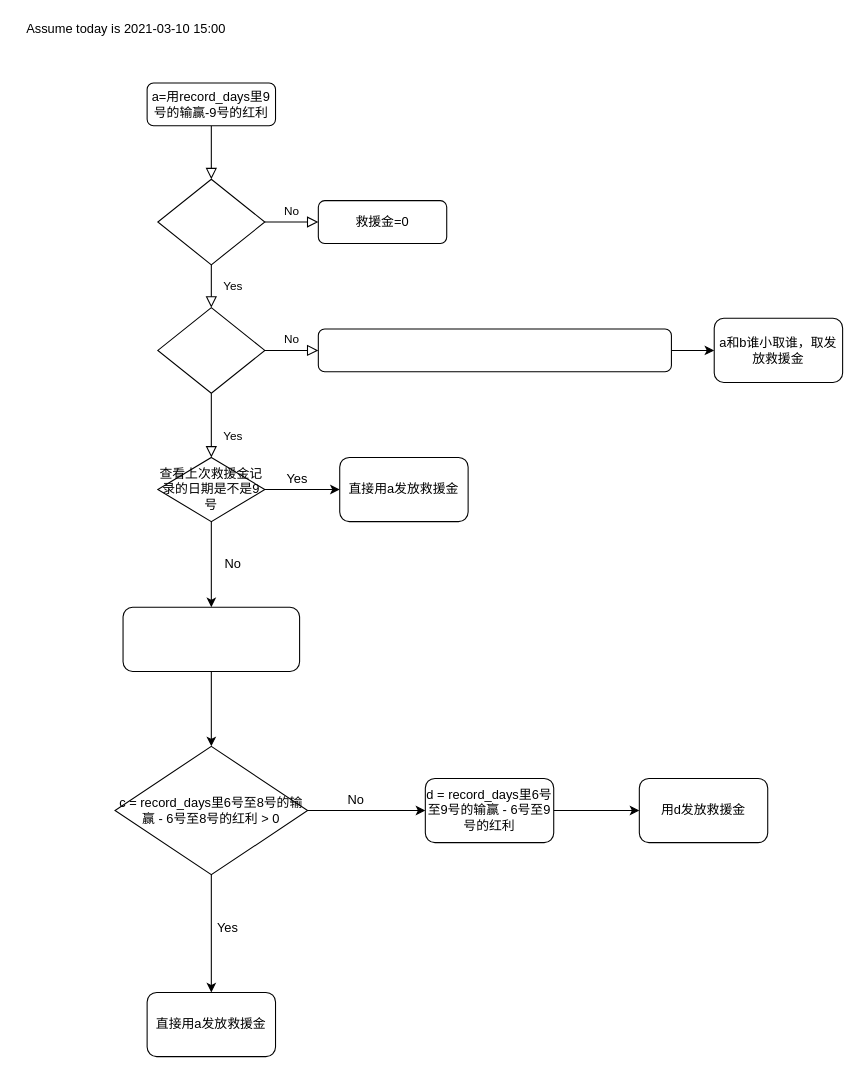
Image size: 861x1075. Some labels were removed from this diagram. Here are the shapes that lost their labels. From the top down, the centre of each, then its label:
(x=211, y=221): 如果a>最低发放值
(x=211, y=350): 检查用户之前是否有过救援金记录
(x=494, y=350): a = record_days里9号的输赢-9号的红利 b = record_days里2号至9号的输赢-2号至9号的红利
(x=211, y=638): 上次发放时间和数据库设置的最大领取时间相比，谁小取谁，举例上次发放是6号，则此处为2021-03-06 00:00:00
